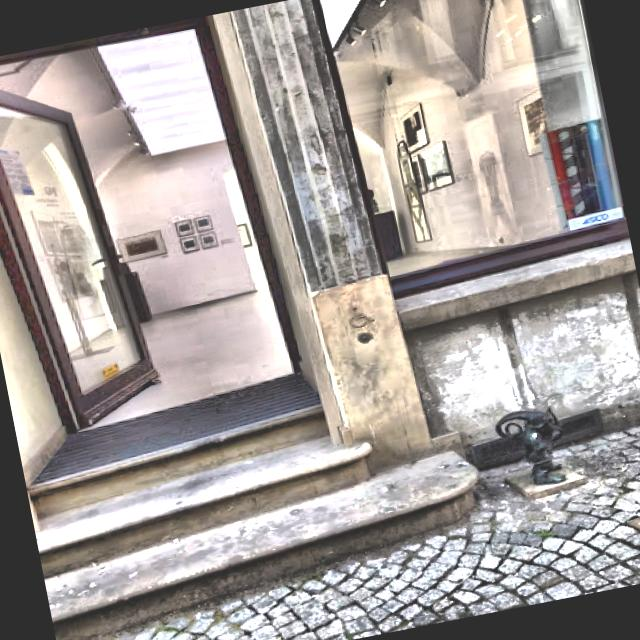Galeriusz: (496, 409, 565, 483)
